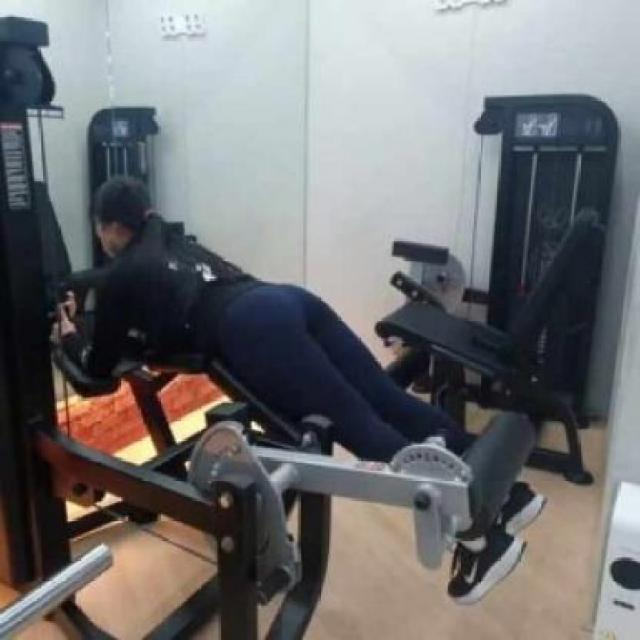reg curl machine: (0, 12, 546, 640)
